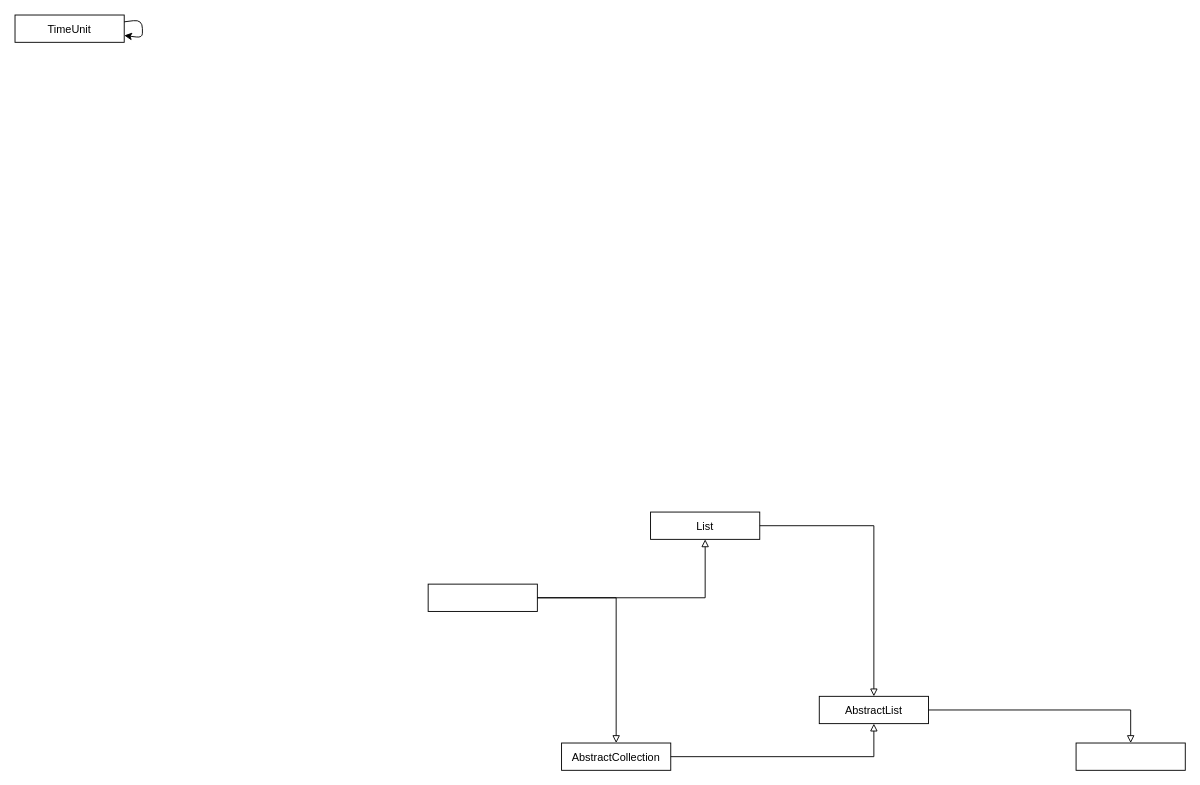
The diagram is 1200 pixels wide and 785 high, and some of its shapes have lost their labels. Here are the shapes that lost their labels. From the top down, the box of each, then its label:
(427, 583, 537, 611): Collection
(1075, 742, 1185, 770): ArrayList
